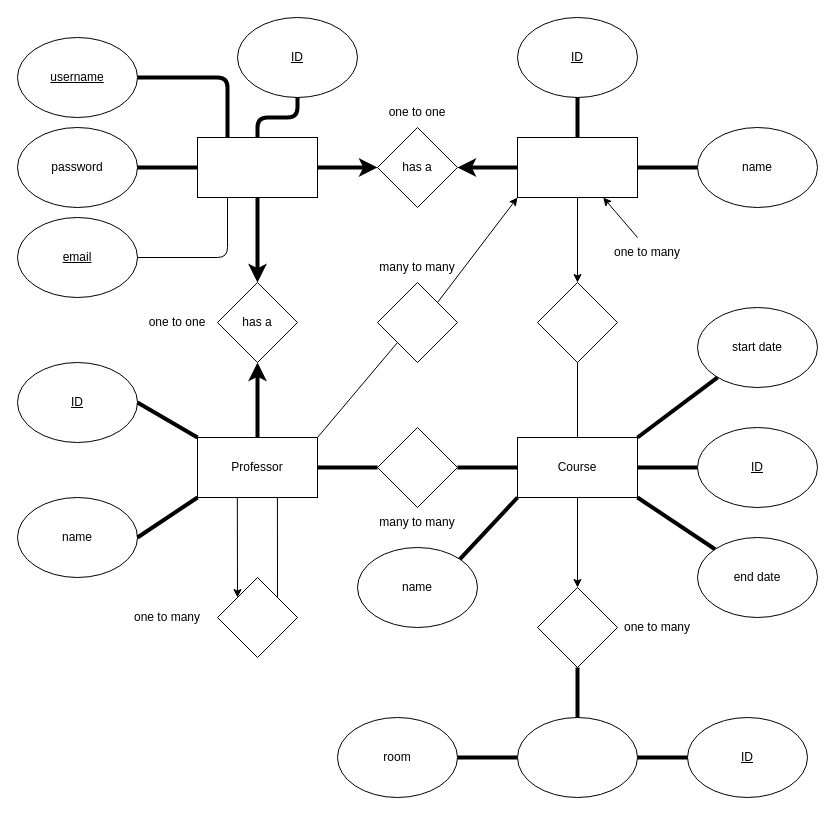
Some shapes in this 835 by 815 pixel diagram are drawn without their labels. Each missing label, with the centre of its shape:
also a: point (417, 322)
be in: point (577, 627)
Building: point (577, 757)
if absent: point (257, 617)
sign up: point (577, 322)
Student: point (577, 167)
taught by: point (417, 467)
User Account: point (257, 167)
